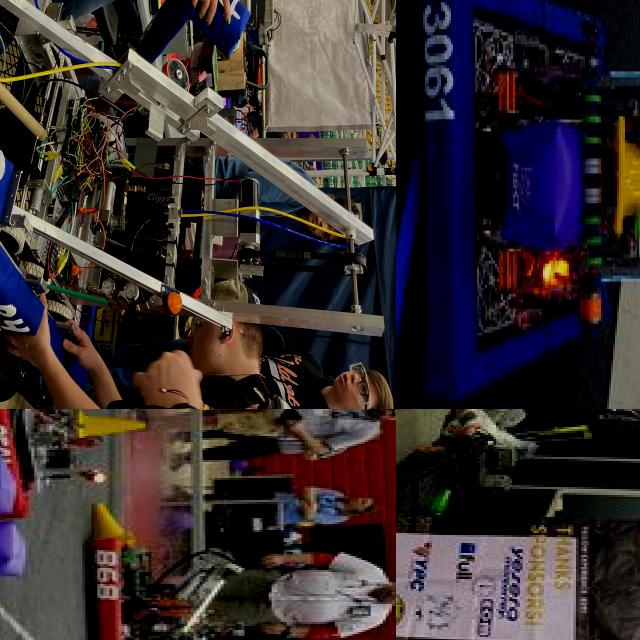FRC-Robots: (0, 0, 396, 409), (404, 0, 640, 409), (91, 501, 273, 640), (396, 409, 640, 496), (0, 409, 137, 517)
